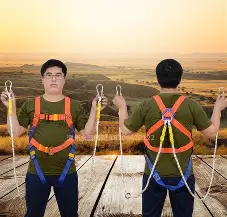safety belt: (134, 99, 203, 192), (26, 98, 81, 184)
